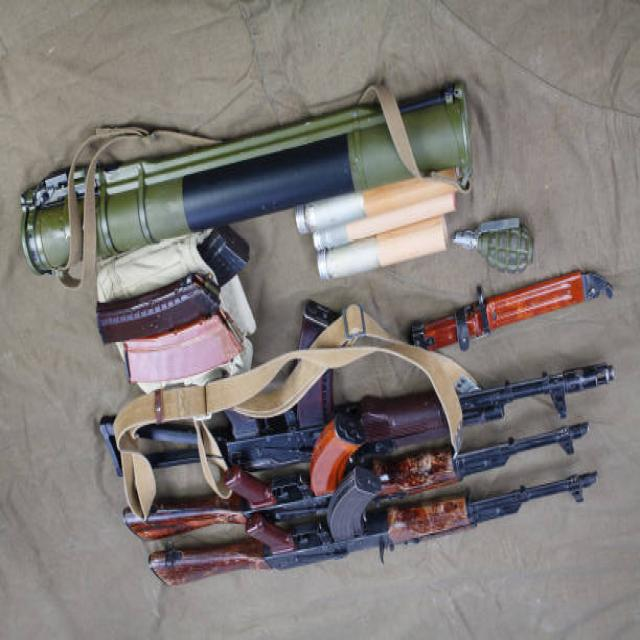grenade: (452, 213, 537, 273)
